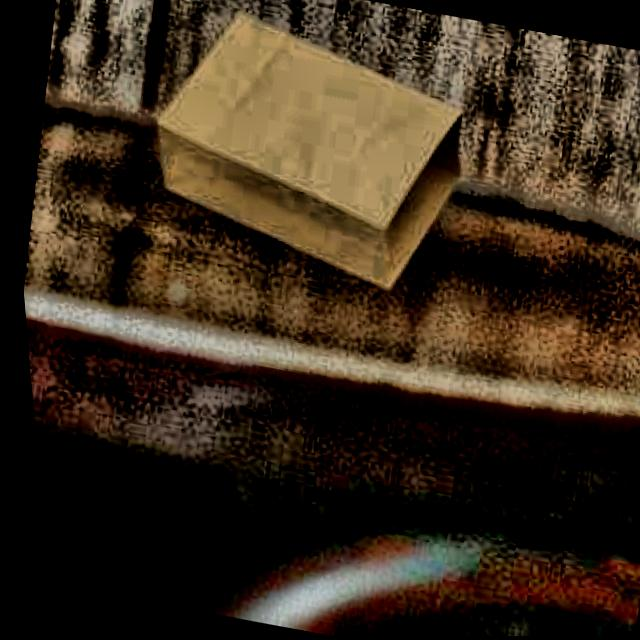Paper-bag: (110, 0, 498, 316)
